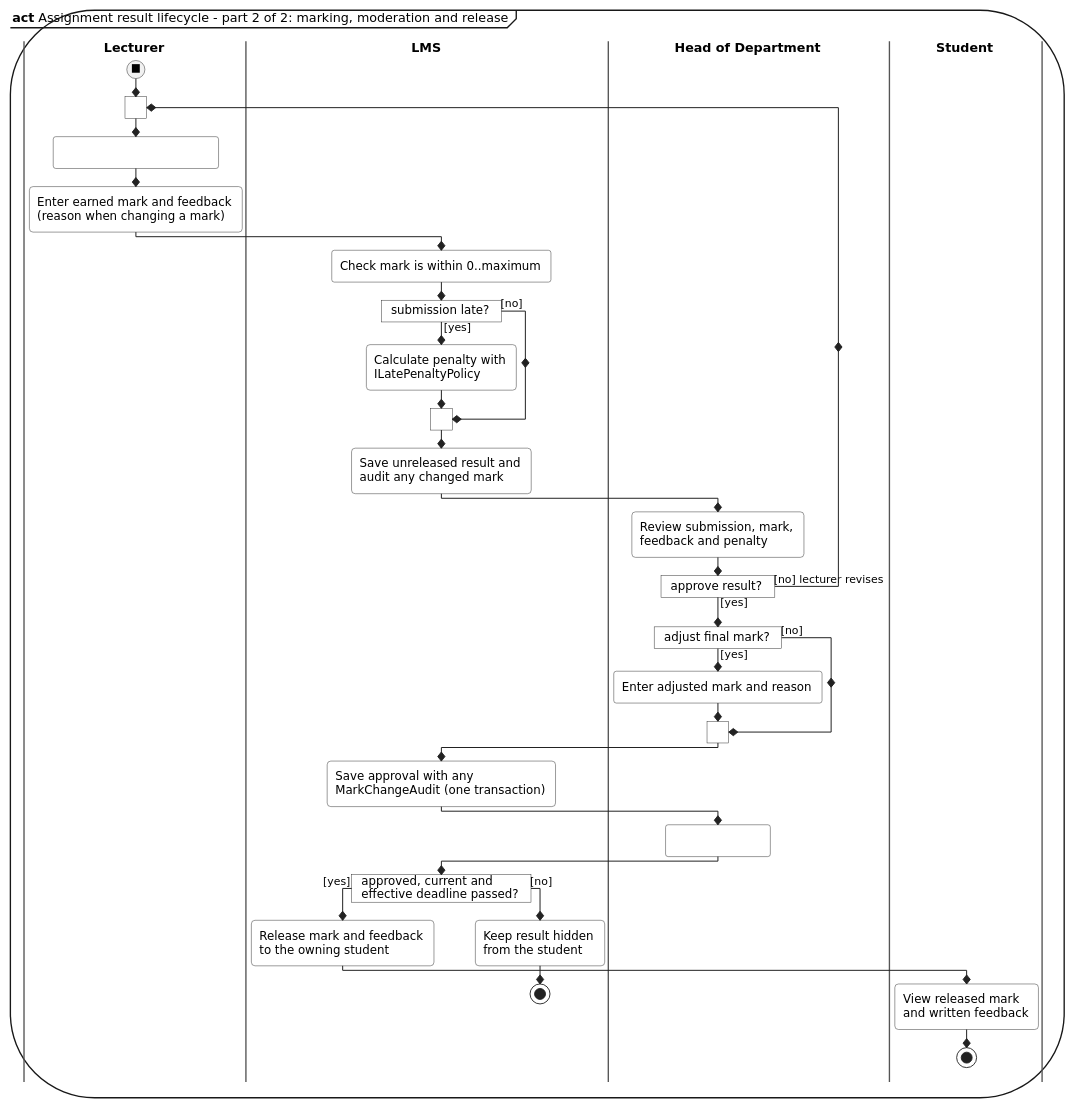
Some shapes in this 1075 by 1109 pixel diagram are drawn without their labels. The centre of each missing label's shape, as x and y in pixels:
Open latest valid version: (x=135, y=152)
Select Release: (x=717, y=840)
